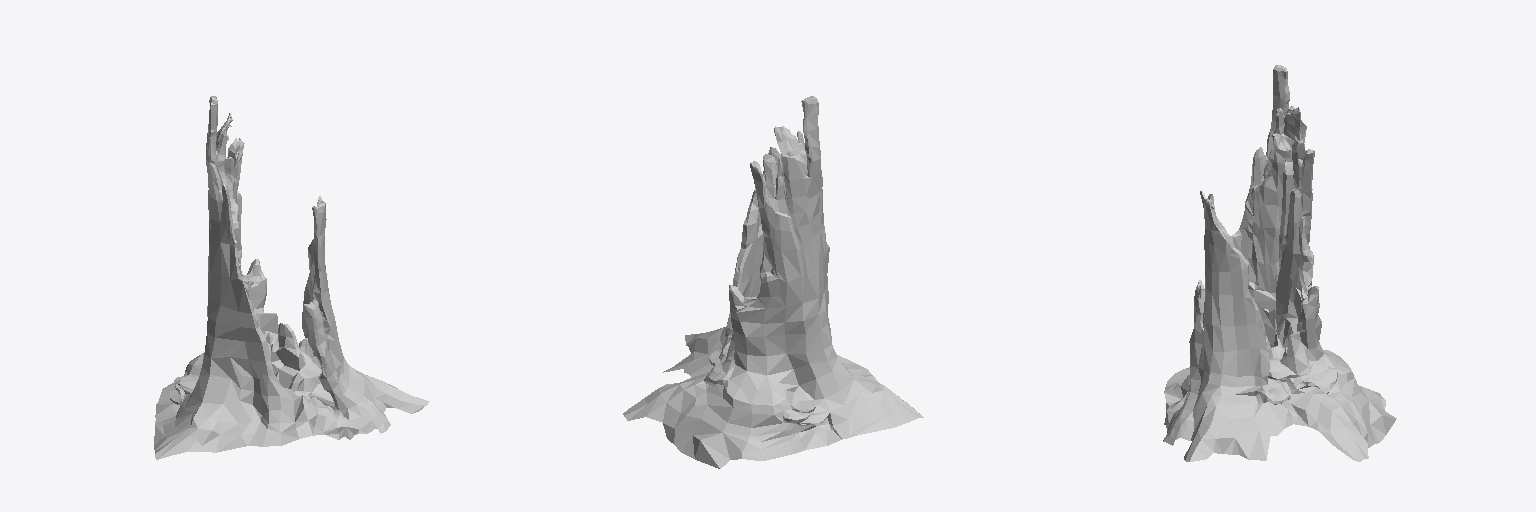
Rendered from Arbre.obj.
The picture shows the model from 3 angles: view 1: azimuth 30°, elevation 25°; view 2: azimuth 150°, elevation 25°; view 3: azimuth 270°, elevation 25°; orthographic projection.
Visible parts, largest first — view 1: crackedTreeLow; view 2: crackedTreeLow; view 3: crackedTreeLow.
Boxes of the visible parts, x1,y1,x2,y2 form: crackedTreeLow: [154, 96, 429, 459]; crackedTreeLow: [623, 96, 923, 468]; crackedTreeLow: [1163, 65, 1396, 461].
Bounding box in the file's own units: 2.83 × 3.55 × 2.22.